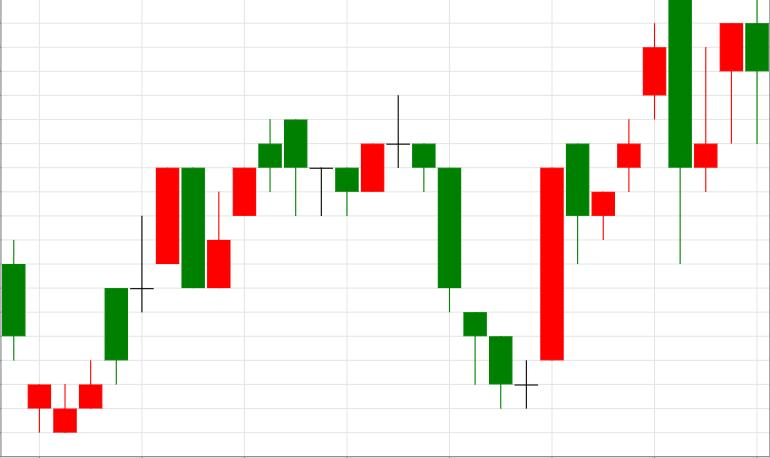bearish_engulfing_fall: (54, 168, 205, 432)
morning_star_rise: (386, 94, 564, 409)
